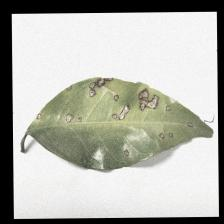canker: (85, 66, 160, 140)
